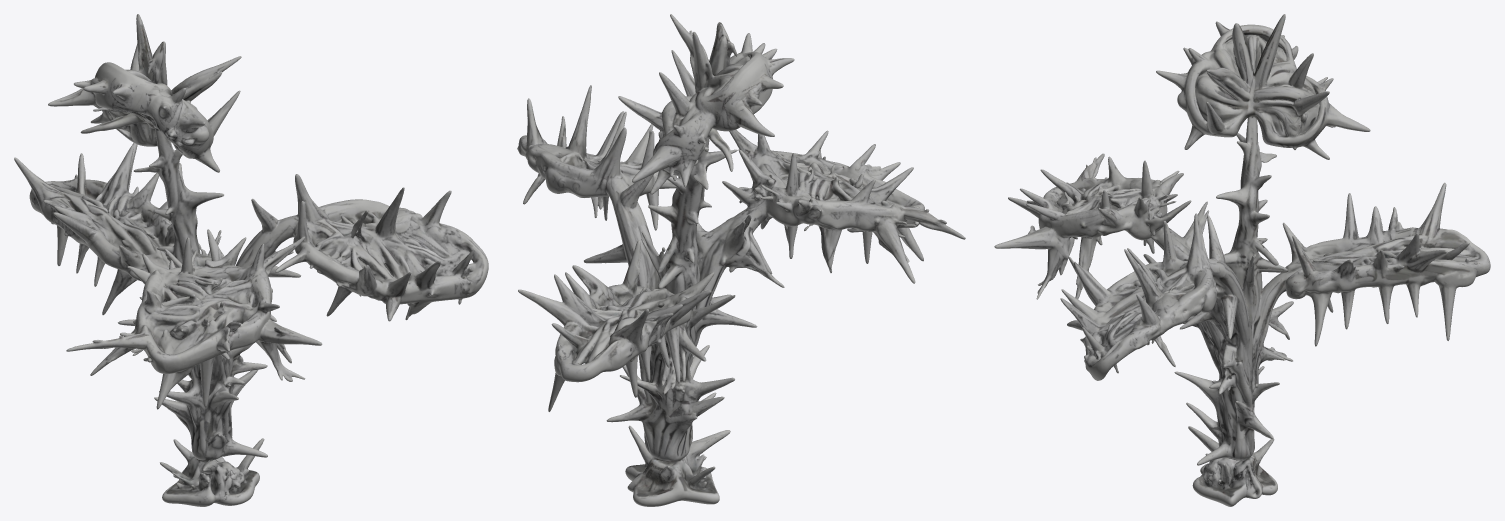
File: sustainability-more-negative.glb
3 renders of one model, left to right at view 1: azimuth 30°, elevation 25°; view 2: azimuth 150°, elevation 25°; view 3: azimuth 270°, elevation 25°, orthographic. The views are drawn at different scales.
Visible parts, largest first — view 1: tripo_node_aa25c293-daa1-467d-b594-cc930c6d82d2; view 2: tripo_node_aa25c293-daa1-467d-b594-cc930c6d82d2; view 3: tripo_node_aa25c293-daa1-467d-b594-cc930c6d82d2.
Boxes of the visible parts, <box> form: tripo_node_aa25c293-daa1-467d-b594-cc930c6d82d2: <box>14,14,488,506</box>; tripo_node_aa25c293-daa1-467d-b594-cc930c6d82d2: <box>517,14,965,506</box>; tripo_node_aa25c293-daa1-467d-b594-cc930c6d82d2: <box>994,14,1490,506</box>.
Bounding box in the file's own units: 0.935 × 1 × 0.9926.
Materials: 1 (1 with a texture image).
